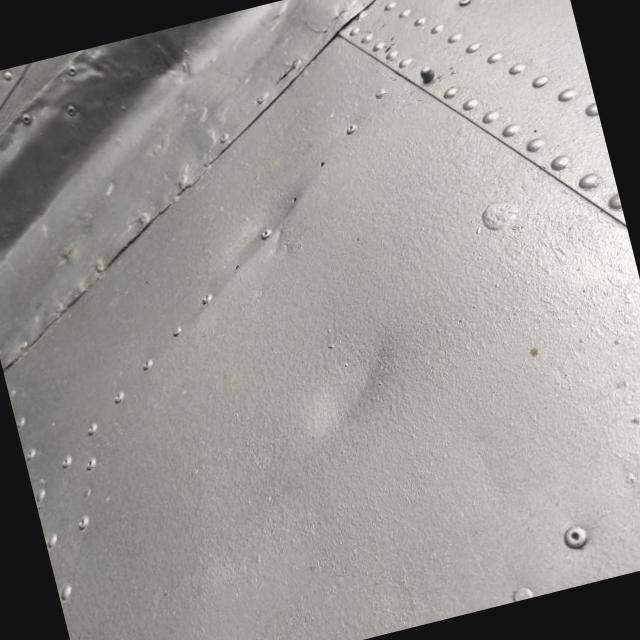dent: (291, 318, 436, 456)
